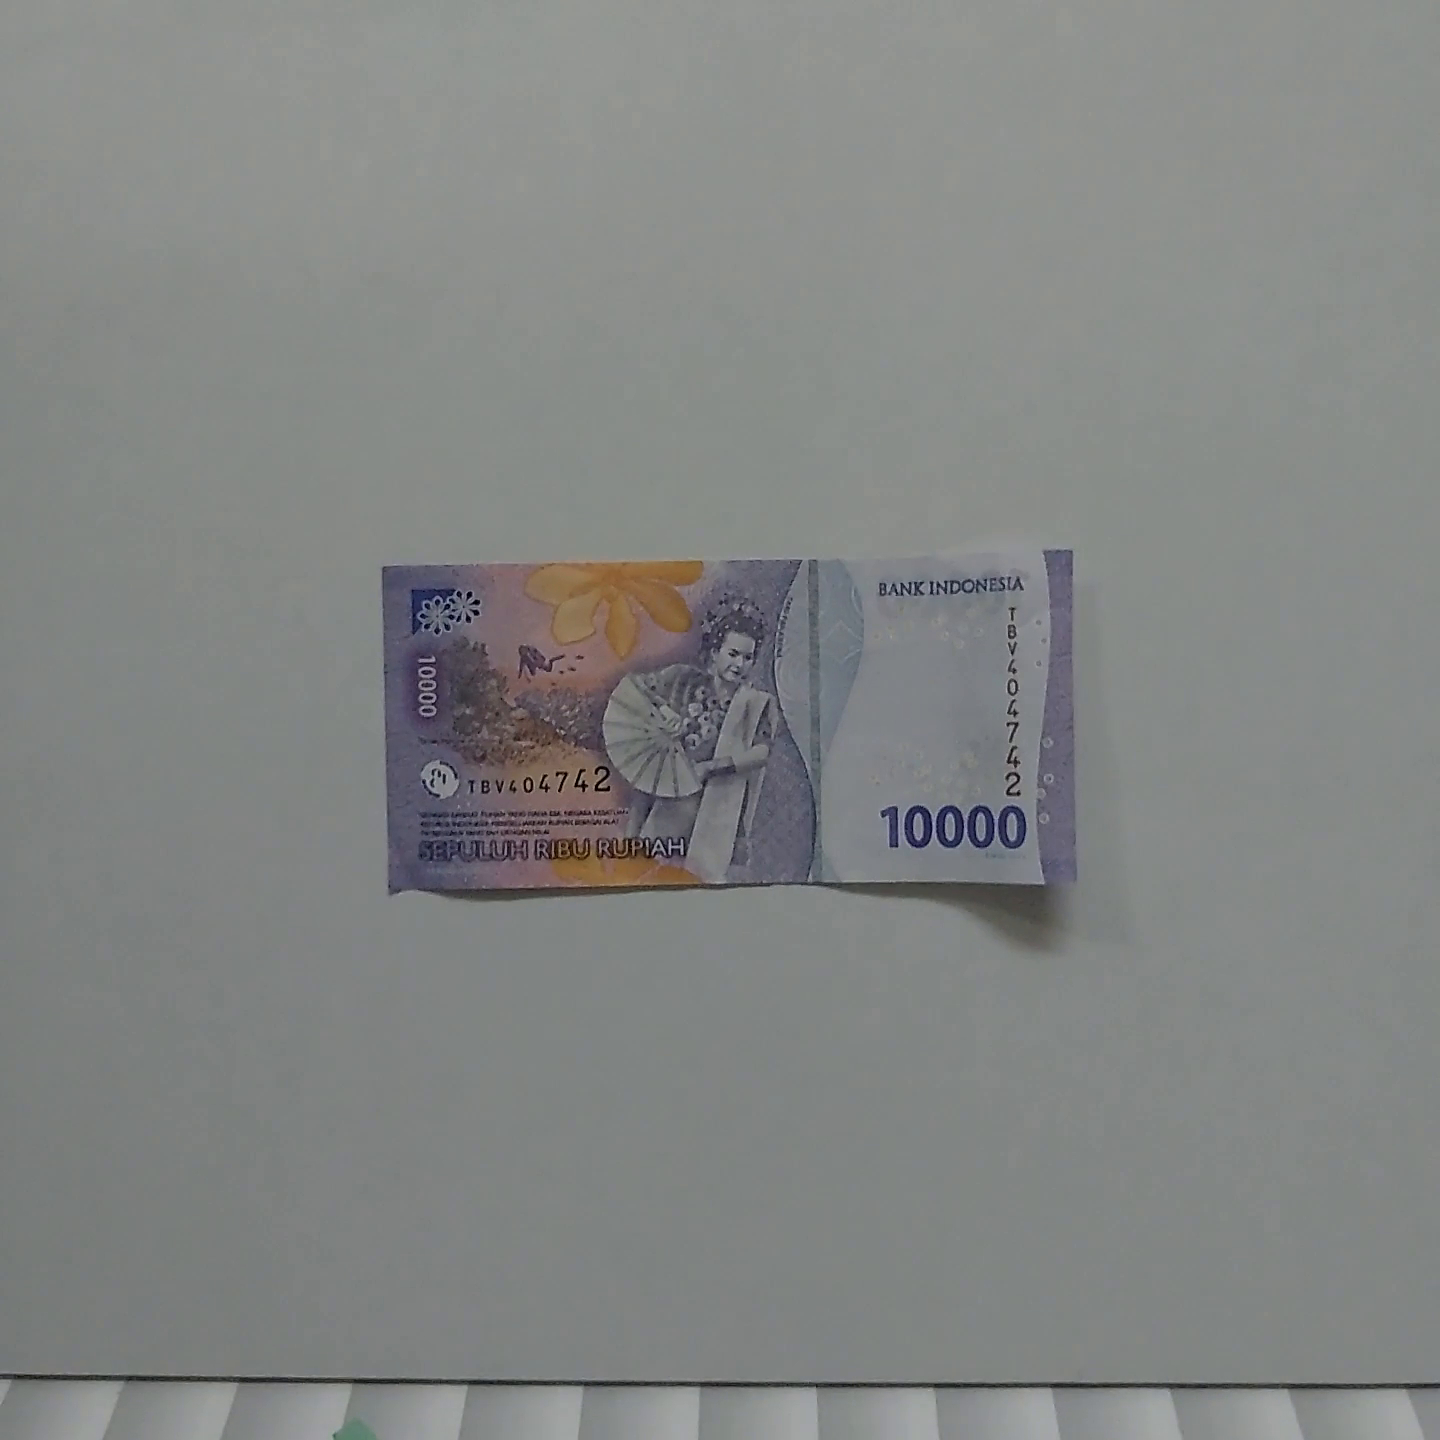10k: (361, 525, 1085, 898)
